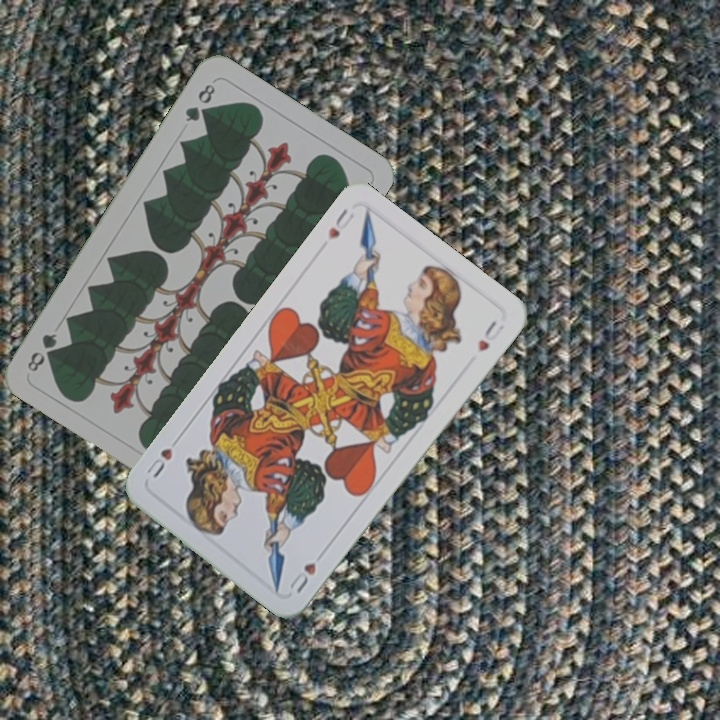G8: (181, 79, 218, 125)
HU: (323, 204, 357, 243), (285, 558, 319, 596)
